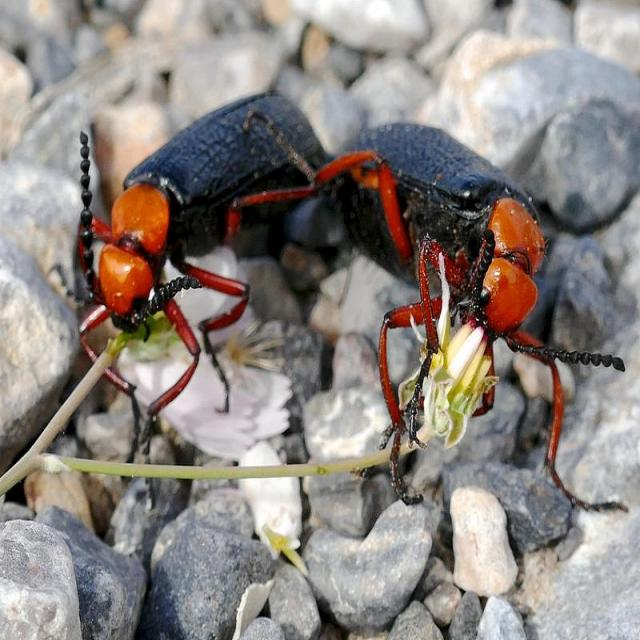BlisterBeetle-Adult-: (340, 109, 610, 524), (65, 81, 339, 443)
